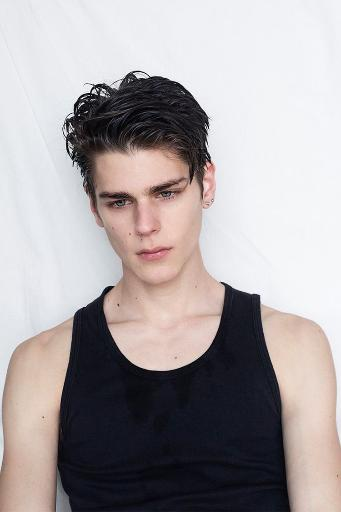left_eye: (154, 189, 183, 201)
left_lip_corner: (166, 243, 175, 254)
right_eye: (108, 198, 136, 209)
right_lip_corner: (133, 249, 143, 259)
